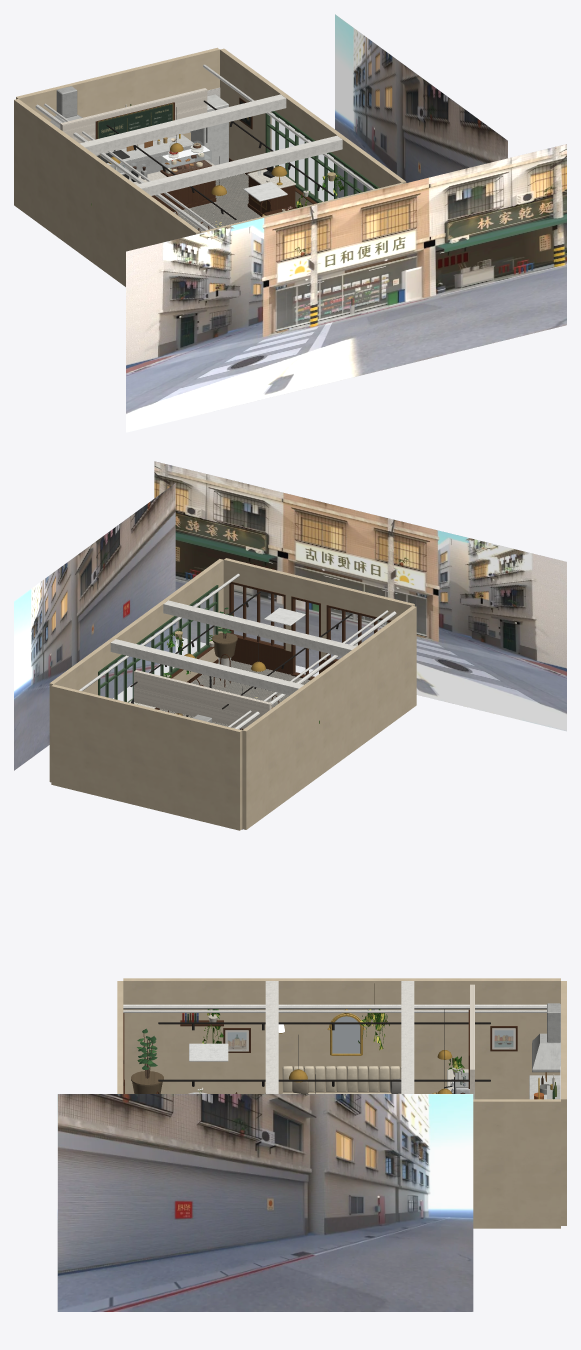
File: sunnyside.glb
The picture shows the model from 3 angles, top to bottom: view 1: azimuth 30°, elevation 25°; view 2: azimuth 150°, elevation 25°; view 3: azimuth 270°, elevation 25°; orthographic projection. The views are drawn at different scales.
Parts seen in each view (by area): view 1: WALL_front_VIEW_sns_window_view, WALL_right_VIEW_sns_window_view, WALL_left_sns_wall, sns_vcm, WALL_back_sns_wall, WALL_right_sns_wall, sns_vcg, sns_wood, WALL_right_sns_vcg, sns_floor, WALL_right_sns_glass, sns_print (+1 smaller); view 2: WALL_front_VIEW_sns_window_view, WALL_right_VIEW_sns_window_view, WALL_back_sns_wall, WALL_left_sns_wall, sns_vcm, sns_vcg, WALL_front_sns_wall, WALL_right_sns_wall, WALL_front_sns_wood, WALL_front_sns_glass, WALL_right_sns_glass, WALL_right_sns_vcg (+1 smaller); view 3: WALL_right_VIEW_sns_window_view, WALL_left_sns_wall, sns_vcm, WALL_right_sns_wall, sns_vc, sns_vcg, WALL_back_sns_wall, WALL_left_sns_print, WALL_left_sns_mirror, WALL_front_sns_wall, sns_pothos, WALL_left_sns_wood.
Boxes of the visible parts, box(x1,y1,x2,y2) form: WALL_front_VIEW_sns_window_view: box(126, 144, 566, 432); WALL_right_VIEW_sns_window_view: box(335, 14, 507, 197); WALL_left_sns_wall: box(14, 99, 200, 286); sns_vcm: box(35, 64, 374, 230); WALL_back_sns_wall: box(16, 47, 219, 140); WALL_right_sns_wall: box(220, 48, 406, 206); sns_vcg: box(60, 87, 335, 226); sns_wood: box(95, 102, 295, 231); WALL_right_sns_vcg: box(265, 111, 379, 203); sns_floor: box(173, 173, 260, 231); WALL_right_sns_glass: box(268, 112, 372, 201); sns_print: box(97, 103, 266, 210); WALL_front_VIEW_sns_window_view: box(154, 461, 566, 731); WALL_right_VIEW_sns_window_view: box(14, 483, 175, 770); WALL_back_sns_wall: box(51, 684, 242, 830); WALL_left_sns_wall: box(242, 606, 416, 829); sns_vcm: box(79, 573, 396, 729); sns_vcg: box(129, 631, 271, 728); WALL_front_sns_wall: box(223, 558, 414, 659); WALL_right_sns_wall: box(49, 559, 223, 782); WALL_front_sns_wood: box(229, 582, 391, 680); WALL_front_sns_glass: box(233, 585, 387, 676); WALL_right_sns_glass: box(100, 589, 215, 702); WALL_right_sns_vcg: box(98, 585, 218, 702); WALL_right_VIEW_sns_window_view: box(57, 1094, 473, 1311); WALL_left_sns_wall: box(123, 978, 560, 1099); sns_vcm: box(123, 981, 560, 1099); WALL_right_sns_wall: box(473, 1099, 560, 1228); sns_vc: box(137, 1010, 546, 1093); sns_vcg: box(131, 984, 560, 1099); WALL_back_sns_wall: box(561, 981, 566, 1225); WALL_left_sns_print: box(225, 1028, 515, 1051); WALL_left_sns_mirror: box(332, 1016, 360, 1053); WALL_front_sns_wall: box(117, 981, 123, 1093); sns_pothos: box(202, 1009, 464, 1072); WALL_left_sns_wood: box(180, 1013, 517, 1052).
Bounding box in the file's own units: 14 × 5.5 × 12.64.
Materials: 17 (14 with a texture image).
